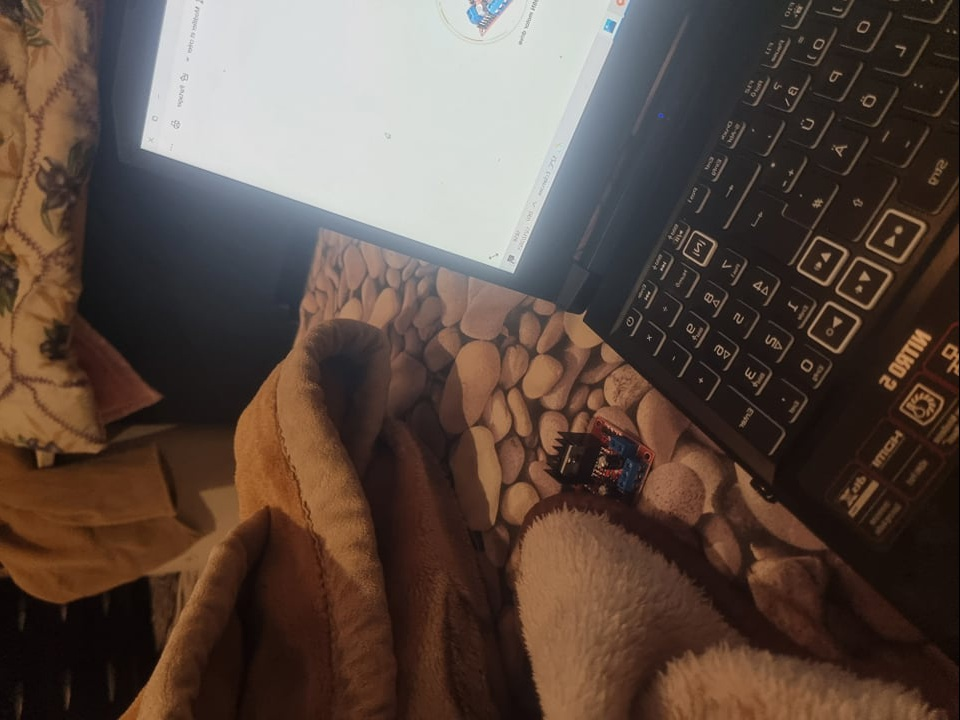MOTOR: (544, 416, 657, 506)
